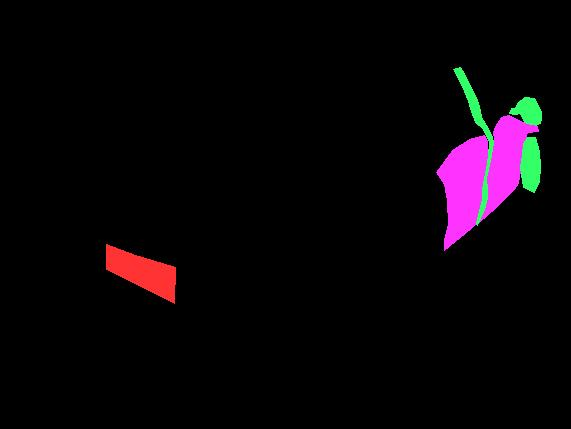Broken part: (453, 67, 493, 225), (520, 137, 540, 192), (509, 97, 541, 125)
Dent: (479, 115, 538, 222), (436, 135, 488, 250)
Missing part: (106, 244, 175, 303)
